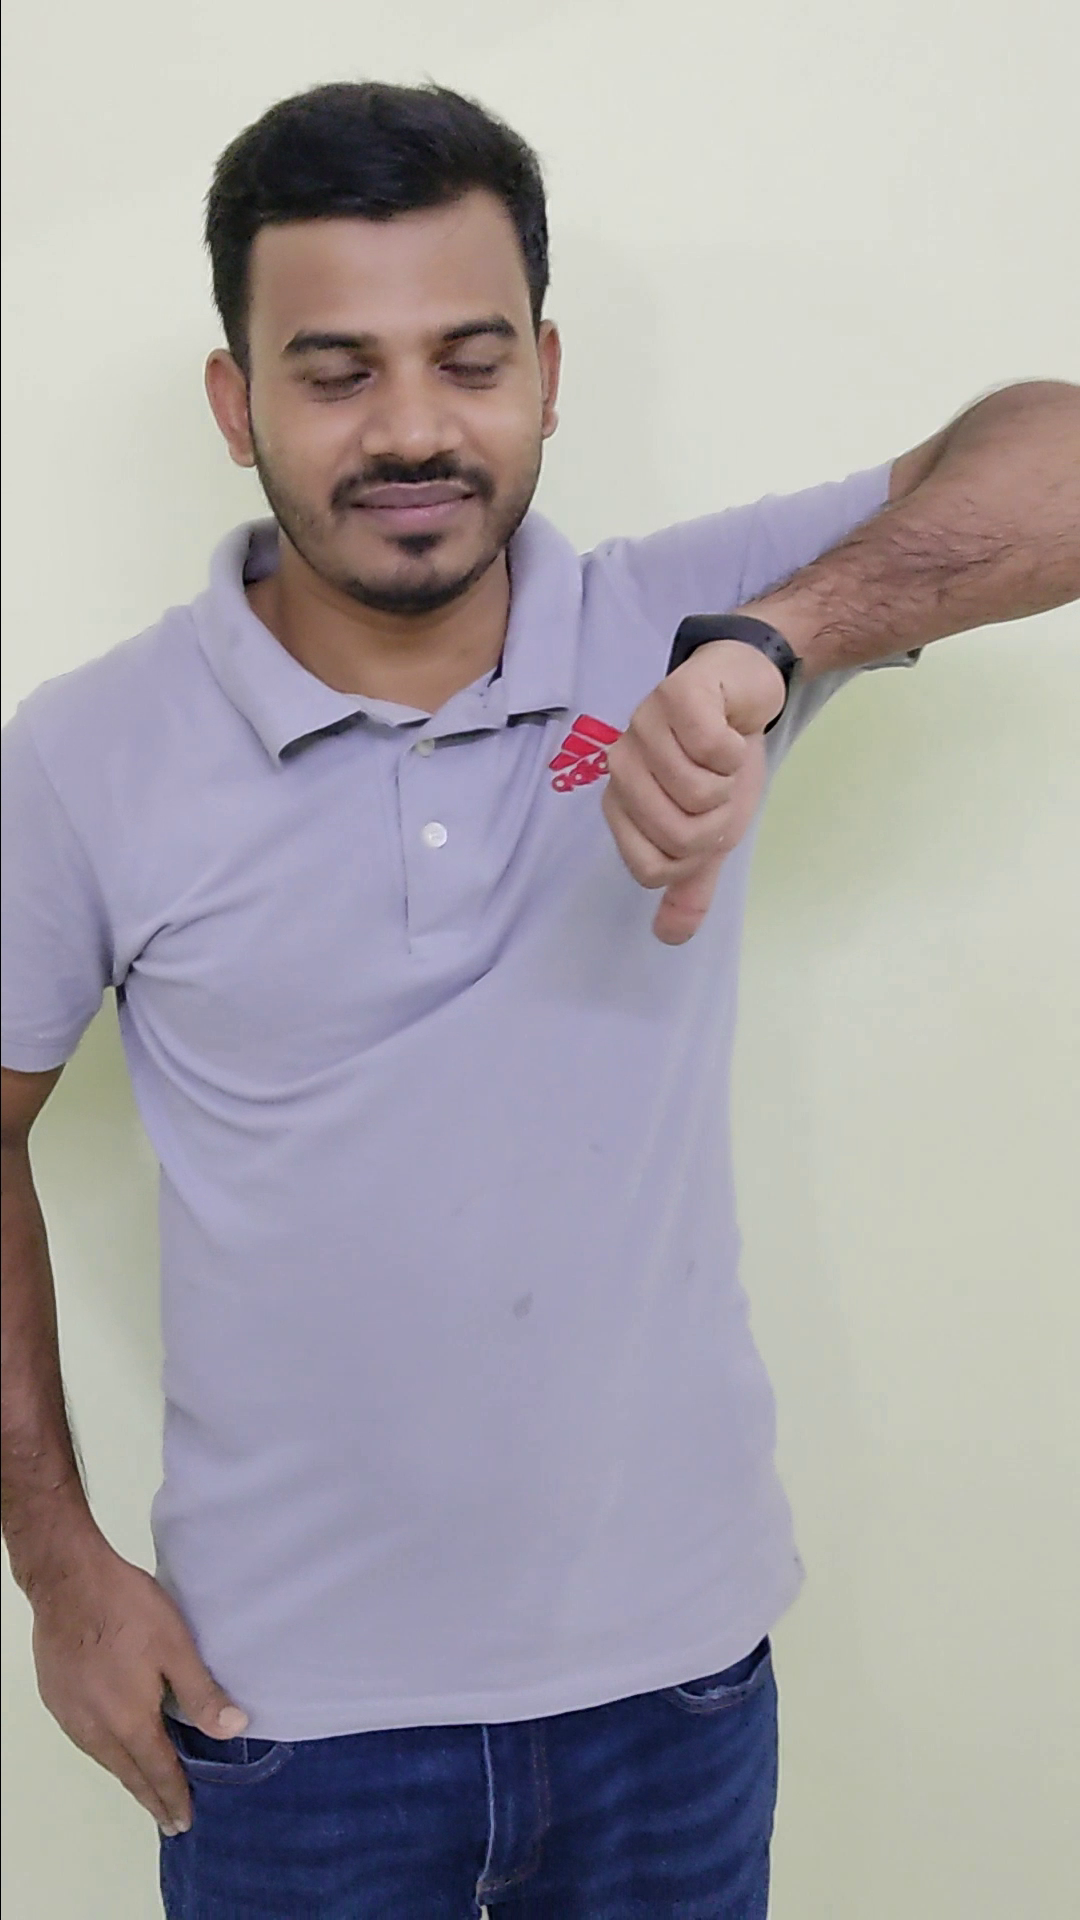Dislike: (592, 588, 820, 963)
None: (11, 1542, 272, 1854)
